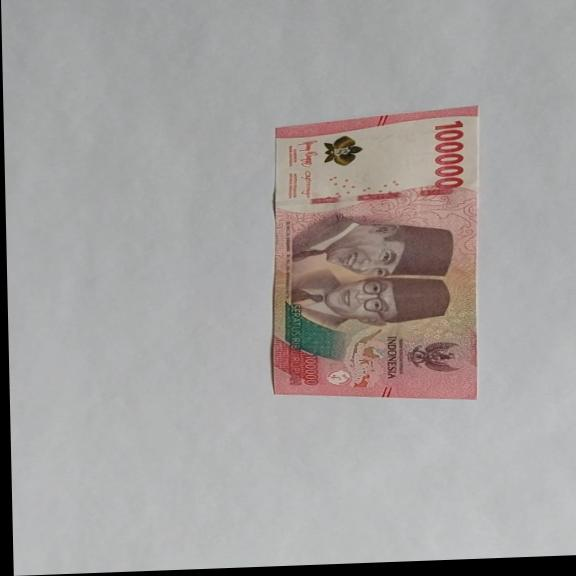Kertas: (265, 105, 486, 408), (430, 119, 469, 190)
